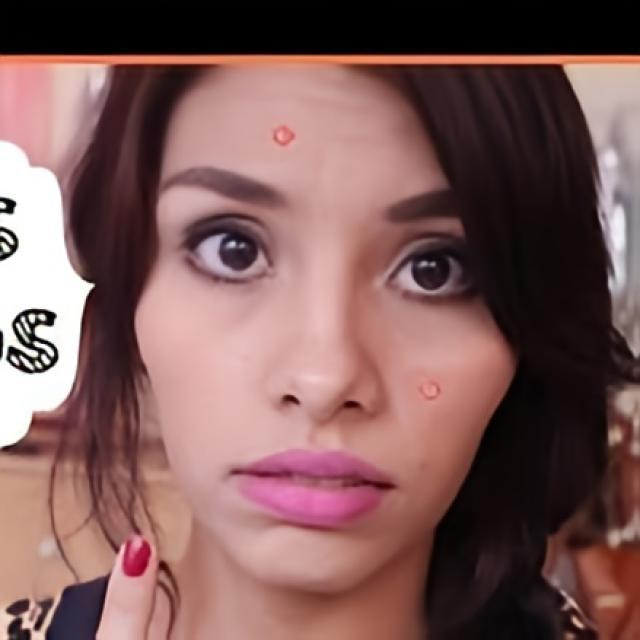neutral: (132, 68, 519, 598)
